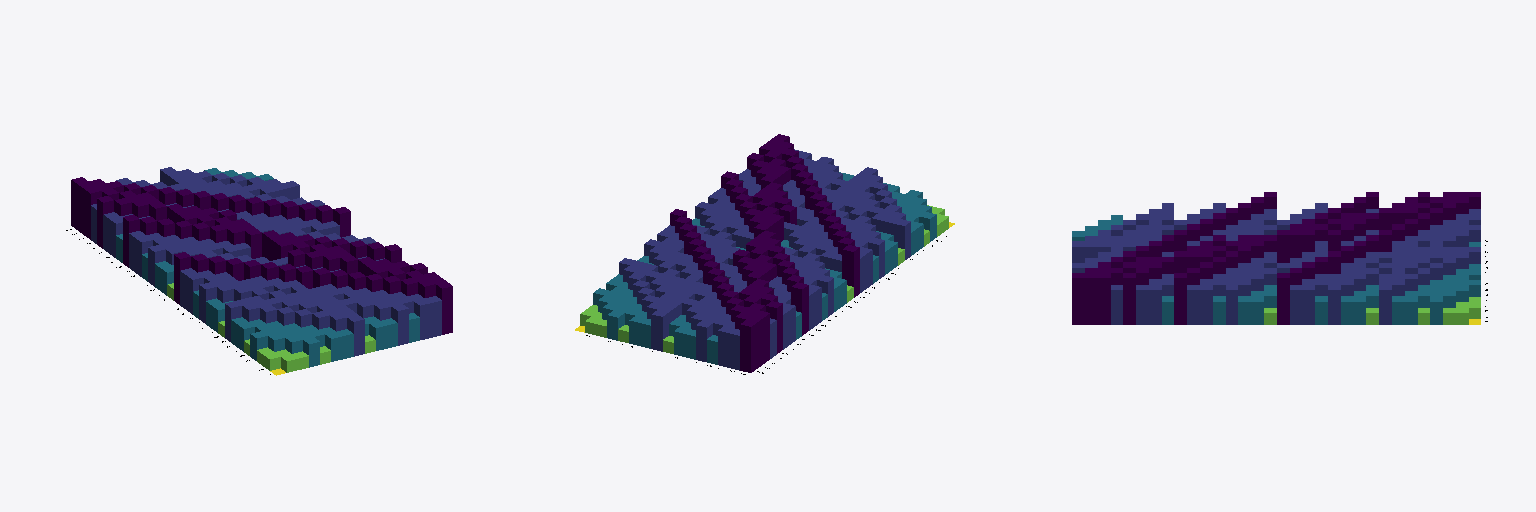
3 renders of one model, left to right at view 1: azimuth 30°, elevation 25°; view 2: azimuth 150°, elevation 25°; view 3: azimuth 270°, elevation 25°, orthographic.
Visible parts, largest first — view 1: Object(16,32)[length_4], Object(12,32)[length_3], Object(8,32)[length_3]; view 2: Object(1,1)[length_4], Object(1,17)[length_4], Object(9,1)[length_3], Object(1,9)[length_4]; view 3: Object(16,16)[length_4], Object(16,24)[length_4], Object(16,28)[length_4], Object(16,30)[length_4], Object(16,31)[length_4], Object(16,32)[length_4].
Boxes of the visible parts, <box> form: Object(16,32)[length_4]: <box>436,282,452,334</box>; Object(12,32)[length_3]: <box>391,304,408,345</box>; Object(8,32)[length_3]: <box>347,315,364,356</box>; Object(1,1)[length_4]: <box>740,320,757,372</box>; Object(1,17)[length_4]: <box>842,245,859,297</box>; Object(9,1)[length_3]: <box>651,310,668,351</box>; Object(1,9)[length_4]: <box>791,282,808,335</box>; Object(16,16)[length_4]: <box>1277,273,1289,324</box>; Object(16,24)[length_4]: <box>1174,273,1186,324</box>; Object(16,28)[length_4]: <box>1123,273,1135,324</box>; Object(16,30)[length_4]: <box>1098,273,1110,324</box>; Object(16,31)[length_4]: <box>1085,273,1097,324</box>; Object(16,32)[length_4]: <box>1072,273,1084,324</box>.
Size of the model in its own units: 16.85 by 4 by 32.5.